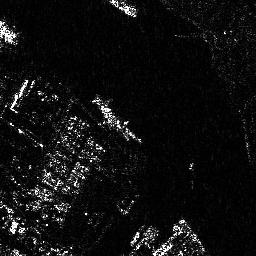ship: (95, 94, 120, 129), (109, 1, 141, 17)
